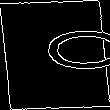O_W: (5, 32, 105, 78)
